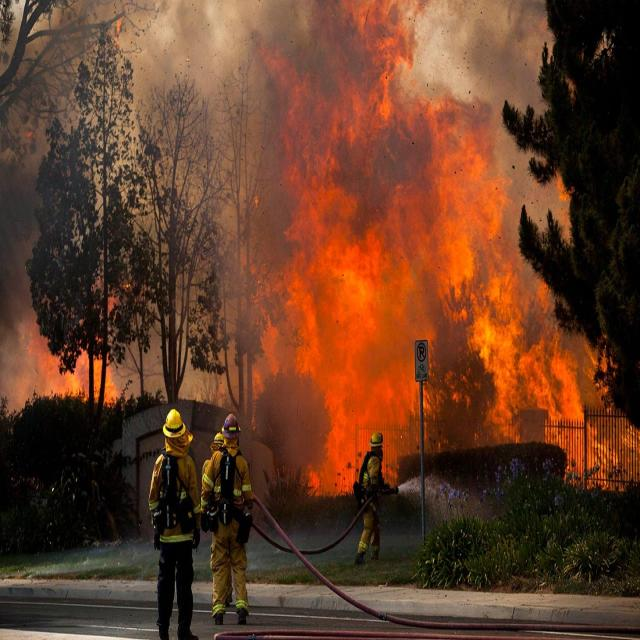Fire: (283, 83, 619, 484)
